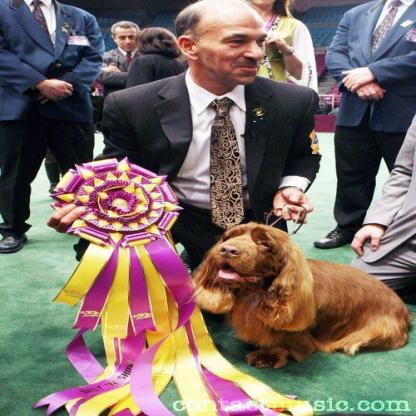Sussex_spaniel: (180, 219, 414, 372)
